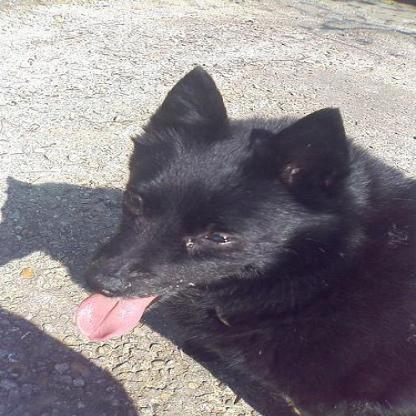schipperke: (73, 66, 413, 414)
